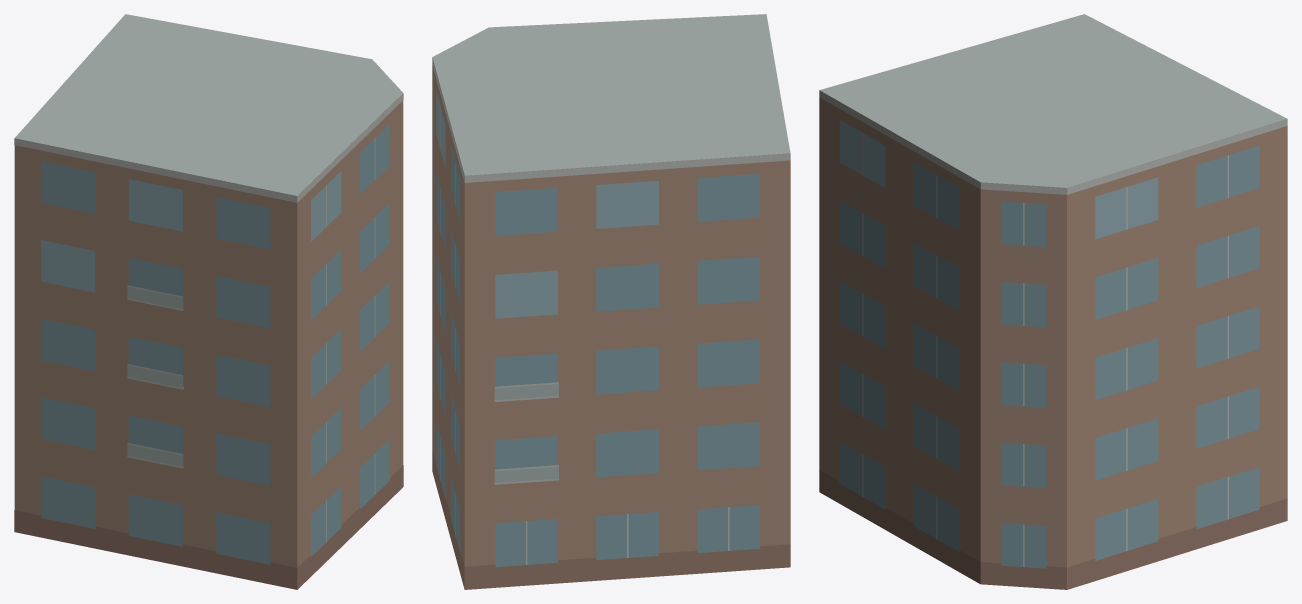
File: survey-upis-32767136.glb
3 views of the same model, side by side, from view 1: azimuth 30°, elevation 25°; view 2: azimuth 150°, elevation 25°; view 3: azimuth 270°, elevation 25° (orthographic). The views are drawn at different scales.
Visible parts, largest first — view 1: survey-upis-32767136.tmp; view 2: survey-upis-32767136.tmp; view 3: survey-upis-32767136.tmp.
Part boxes in pixels (<box>): survey-upis-32767136.tmp: <box>14,14,403,589</box>; survey-upis-32767136.tmp: <box>432,14,790,589</box>; survey-upis-32767136.tmp: <box>819,14,1287,589</box>.
Size of the model in its own units: 13 by 14 by 14.79.
